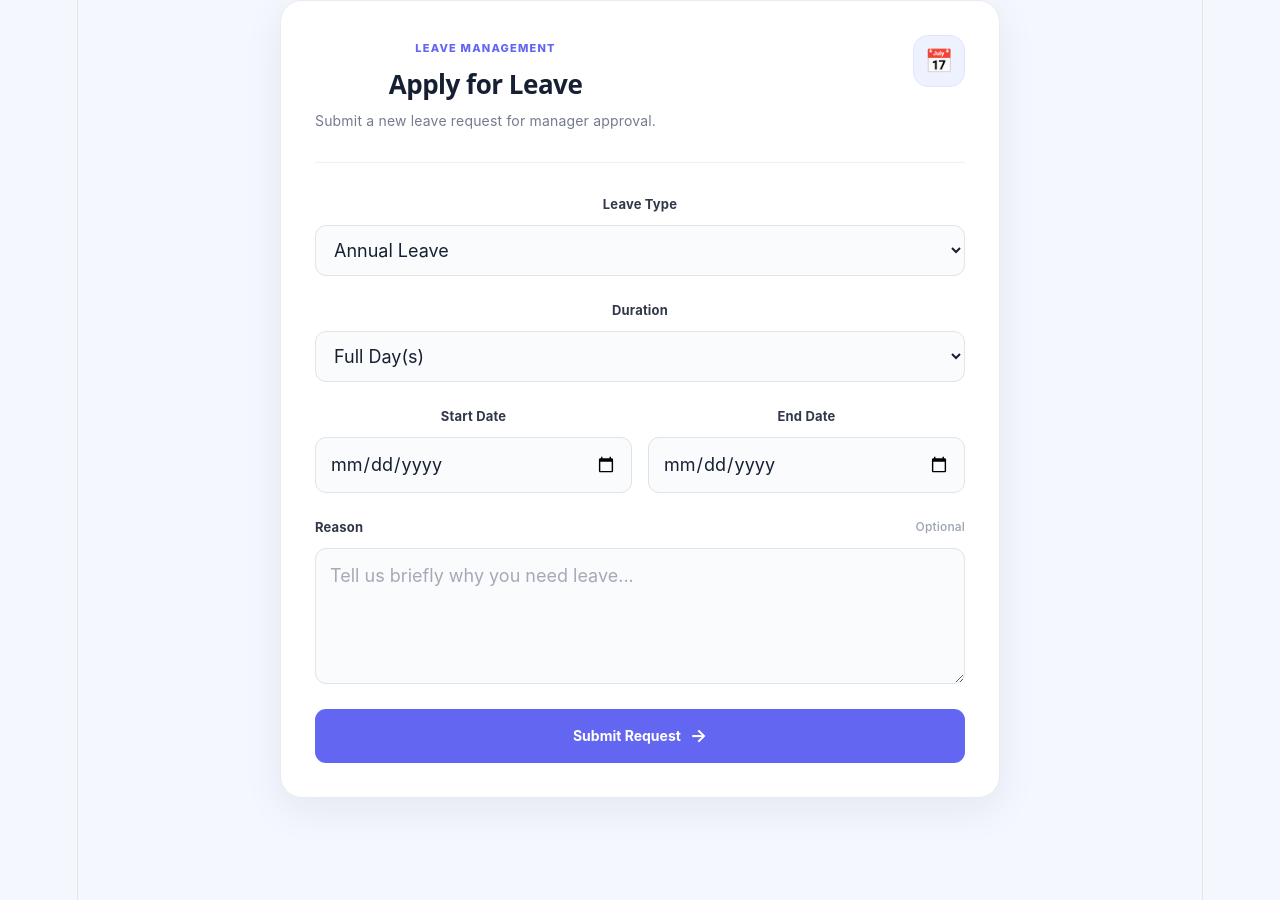
ApplyLeaveForm › submits a valid leave request and reports success
This screenshot has width=1280, height=900.
Select "Casual Leave" in the dropdown labelled "Leave Type": [640, 250] box 315,225 -> 965,276
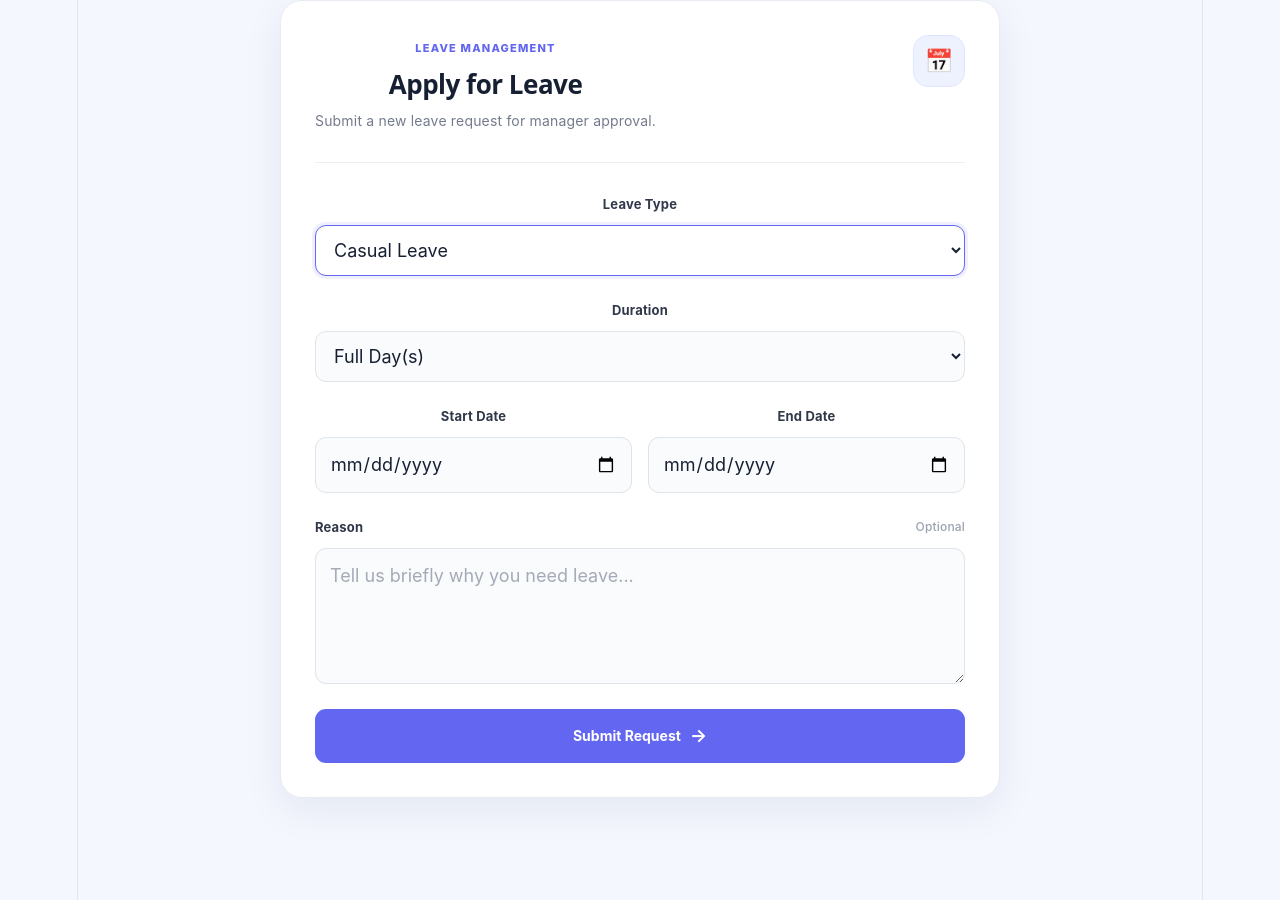
In the date field labelled "Start Date": [474, 465] box 315,437 -> 632,493, type "2026-07-06"
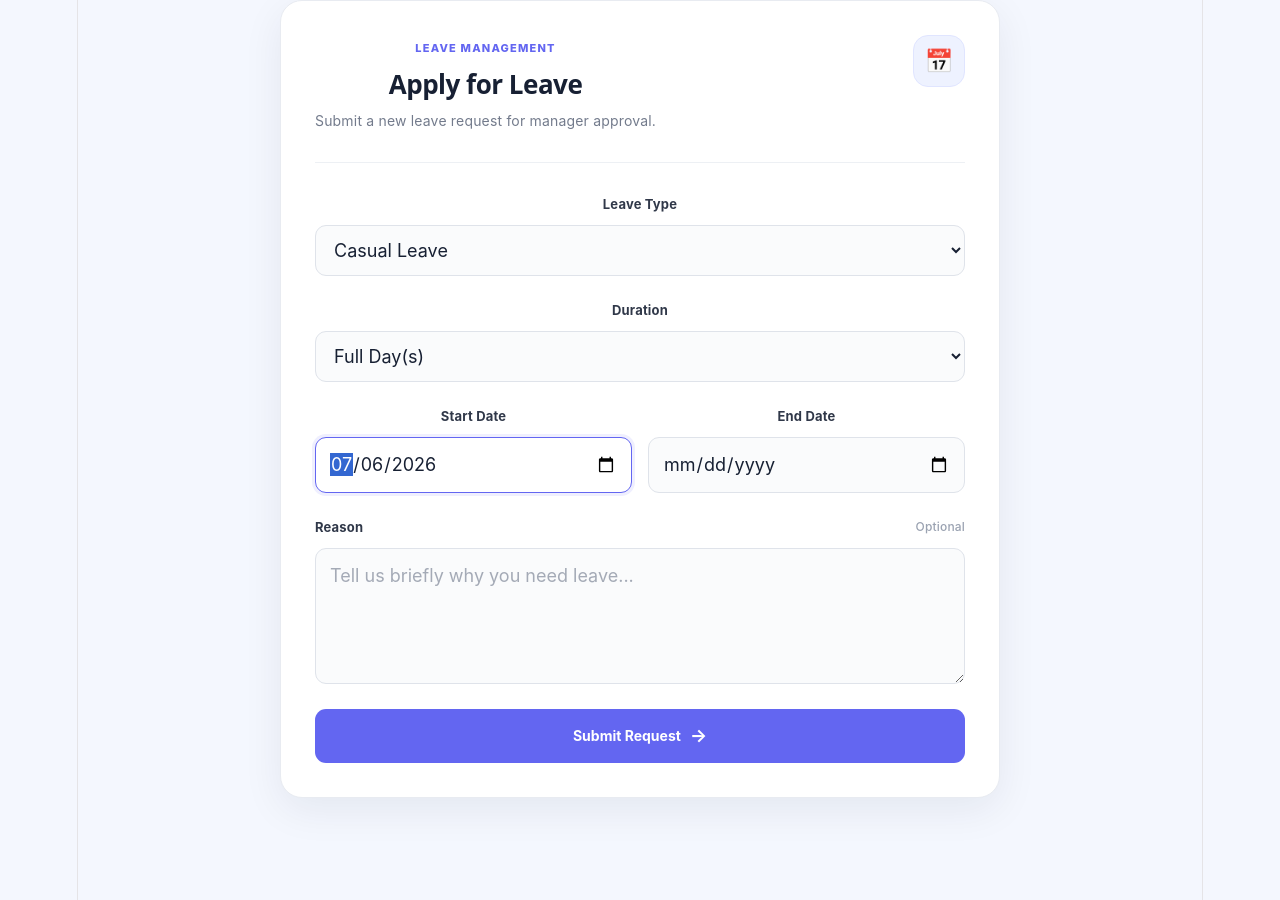
In the date field labelled "End Date": [806, 465] box 648,437 -> 965,493, type "2026-07-08"
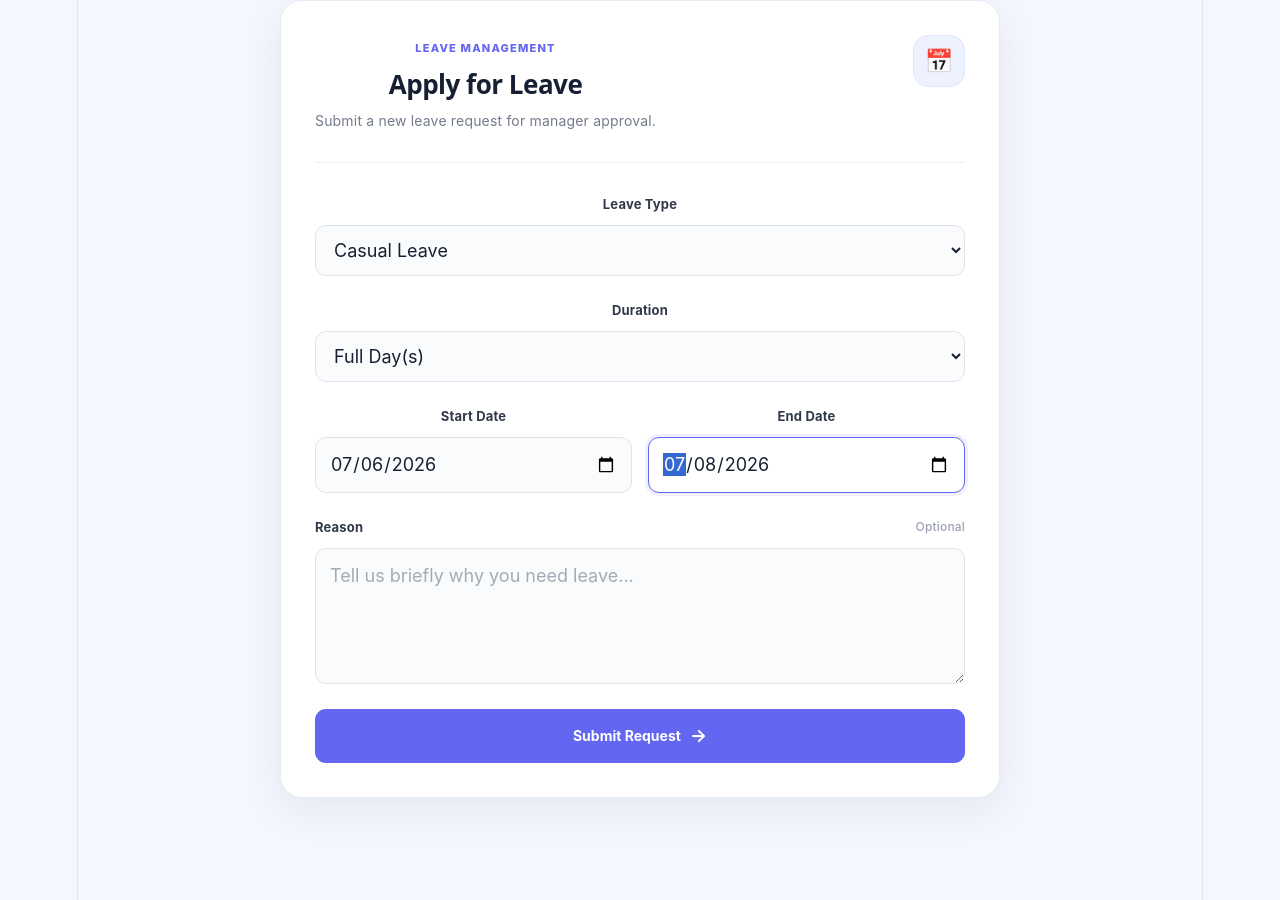
In the text box labelled "Reason": [640, 616] box 315,548 -> 965,684, type "Family trip to Kandy"
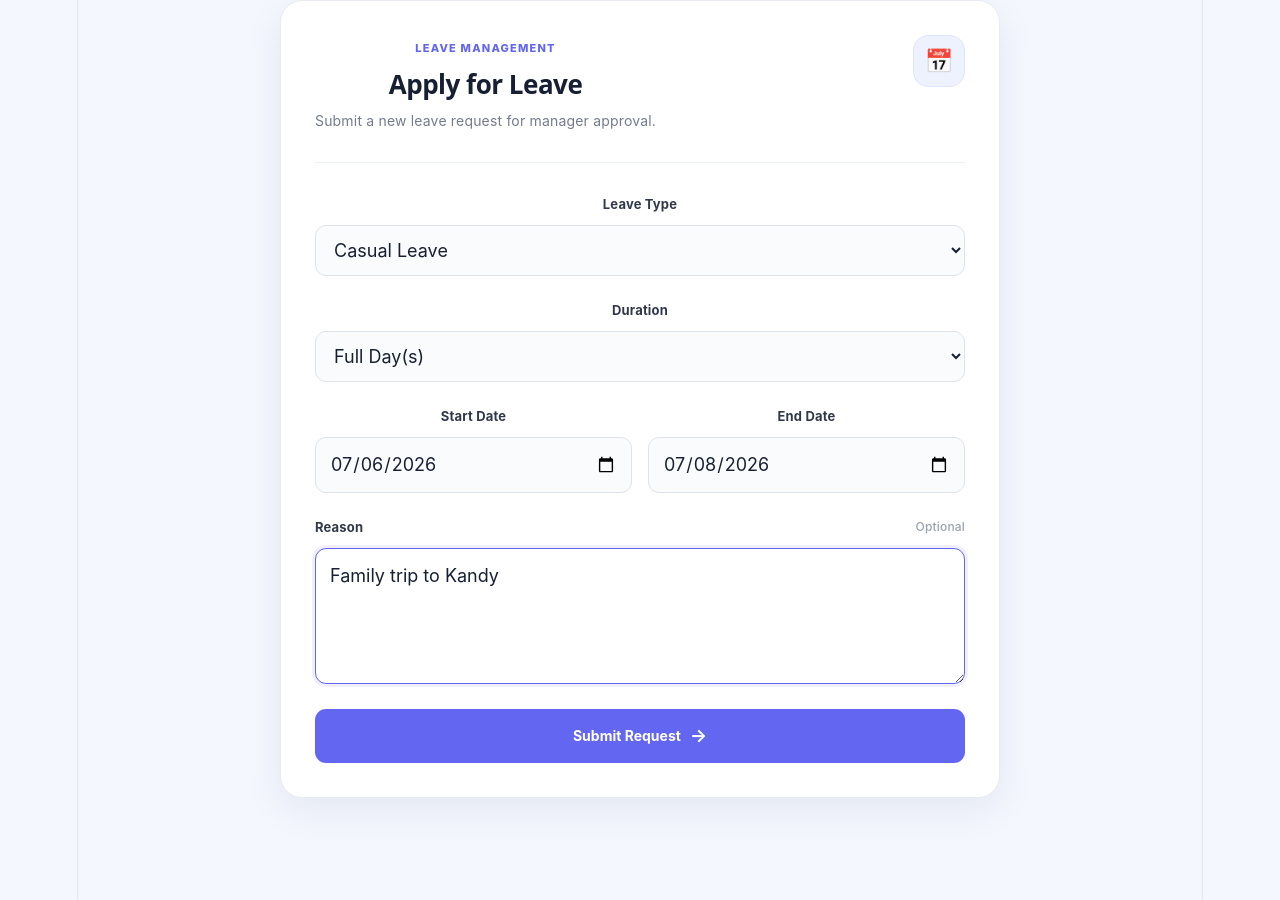
Click the button "Submit Request →": [640, 736] box 315,709 -> 965,763
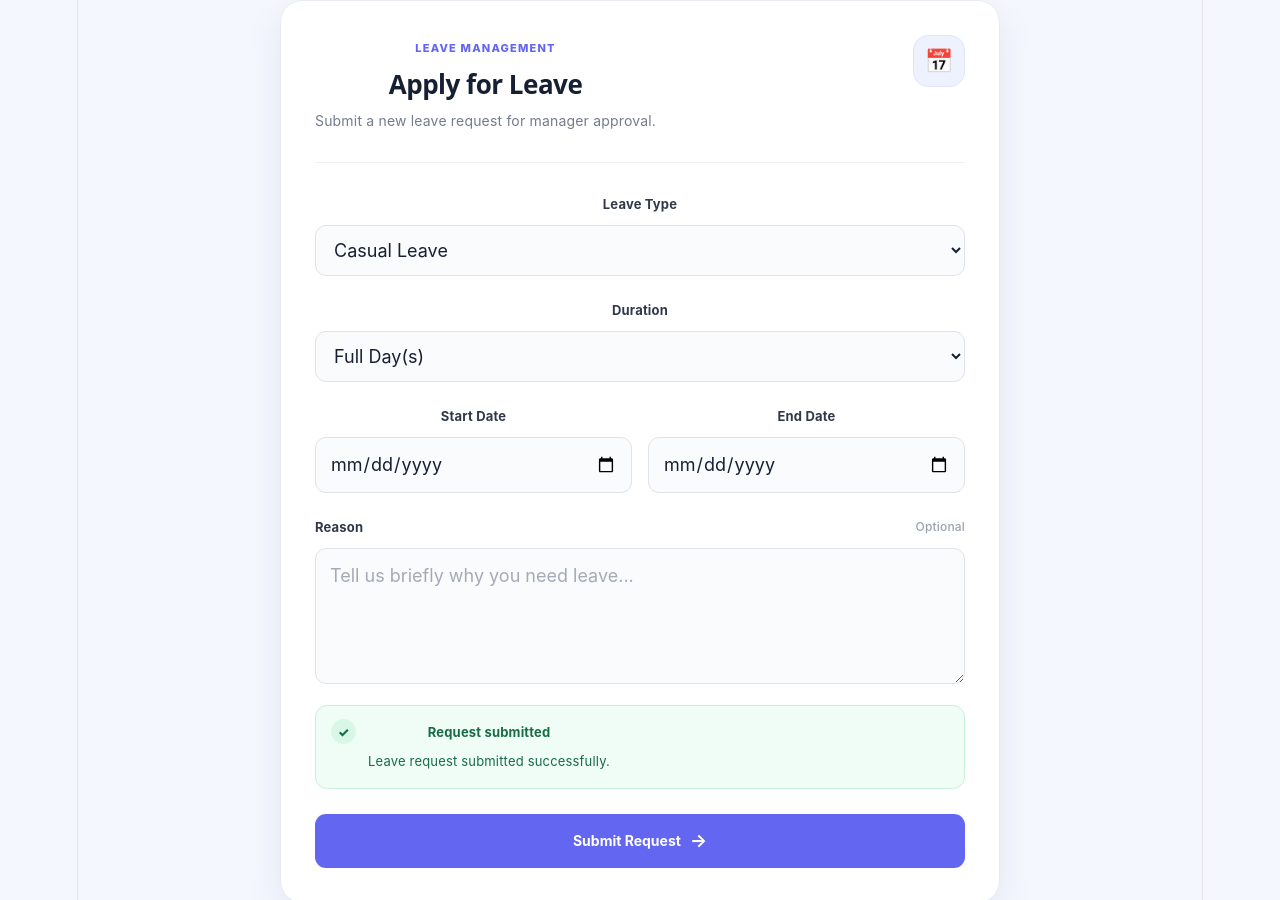
Expected: the text "Leave request submitted successfully." is shown, 368,748 -> 610,774
